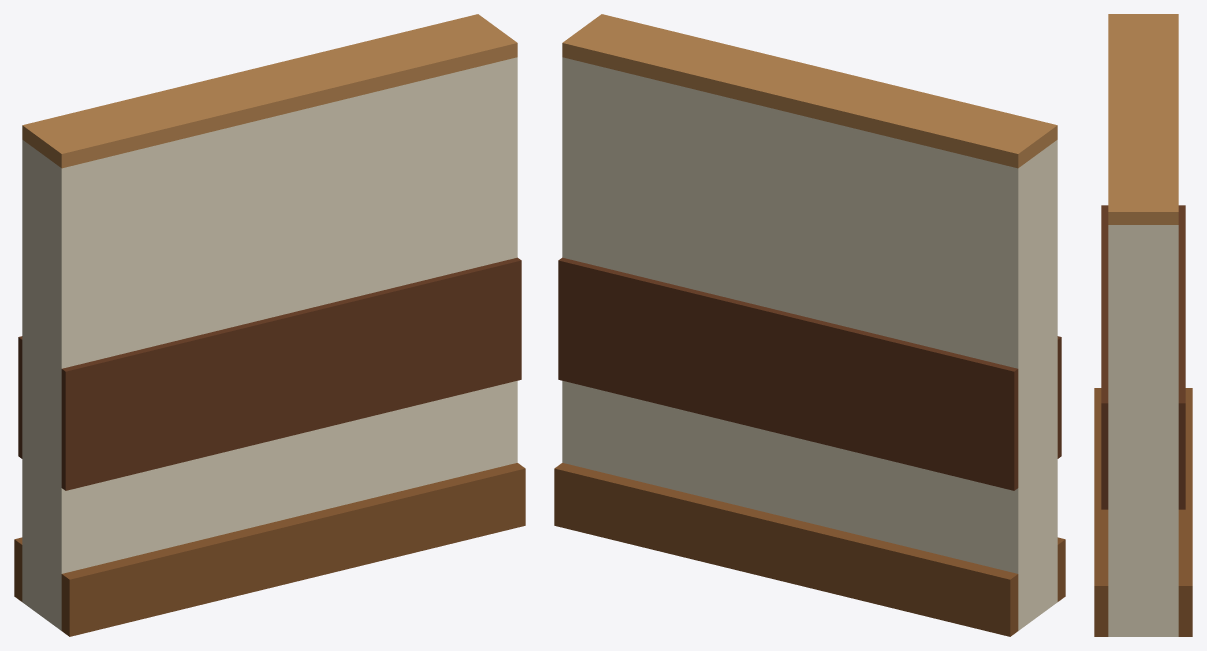
Rendered from partition-full.glb.
3 renders of one model, left to right at view 1: azimuth 30°, elevation 25°; view 2: azimuth 150°, elevation 25°; view 3: azimuth 270°, elevation 25°, orthographic. The views are drawn at different scales.
Parts seen in each view (by area): view 1: partition-full; view 2: partition-full; view 3: partition-full.
Boxes of the visible parts, <box> form: partition-full: <box>14,14,525,636</box>; partition-full: <box>554,14,1065,636</box>; partition-full: <box>1094,14,1192,636</box>.
Bounding box in the file's own units: 1 × 1 × 0.21.
1 material, 1 textured.
